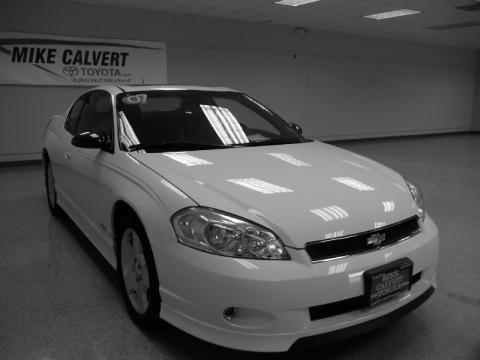car: (38, 78, 450, 360)
